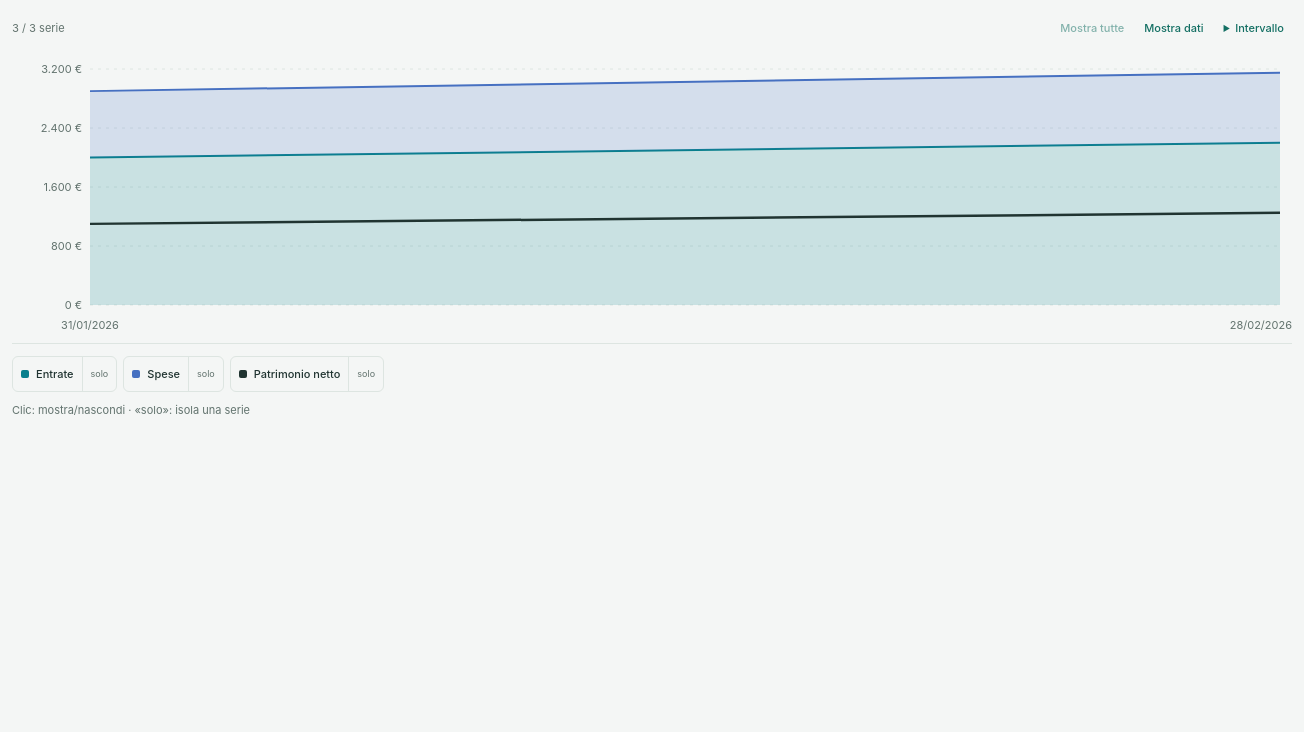
Test: includes the net worth overlay in the area chart controls
Click the button with aria-label "Mostra solo Patrimonio netto" at point(366, 374), box [348,357,383,391]
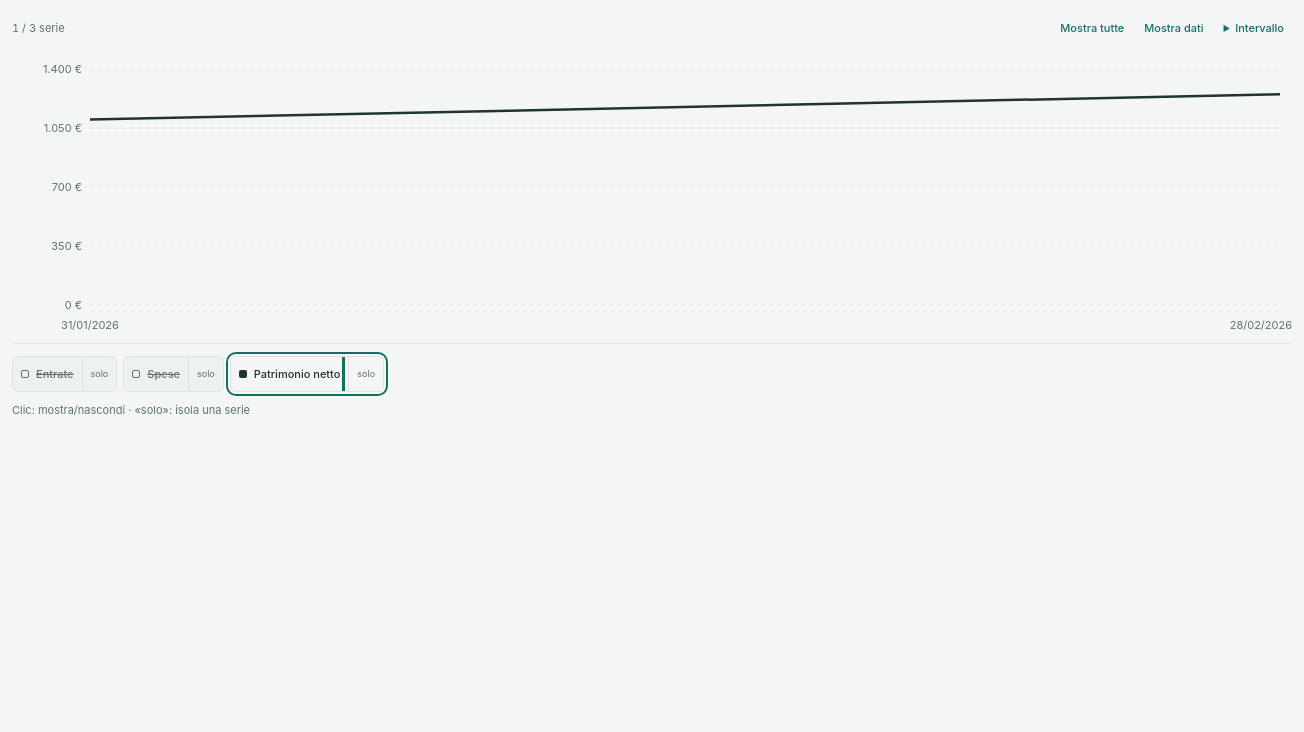
Click the button "Mostra dati" at point(1174, 28), box [1136,12,1212,44]
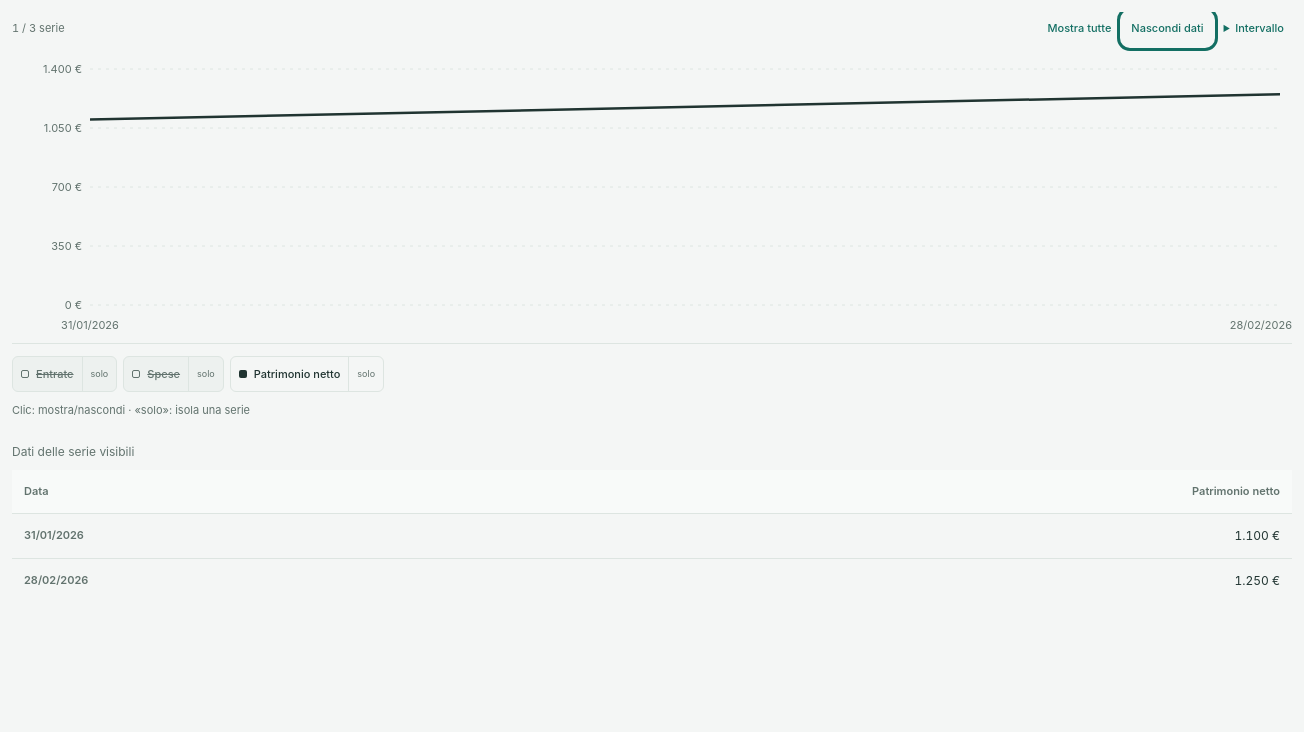
Check: the column heading "Patrimonio netto" is shown, box [577,470,1292,513]
